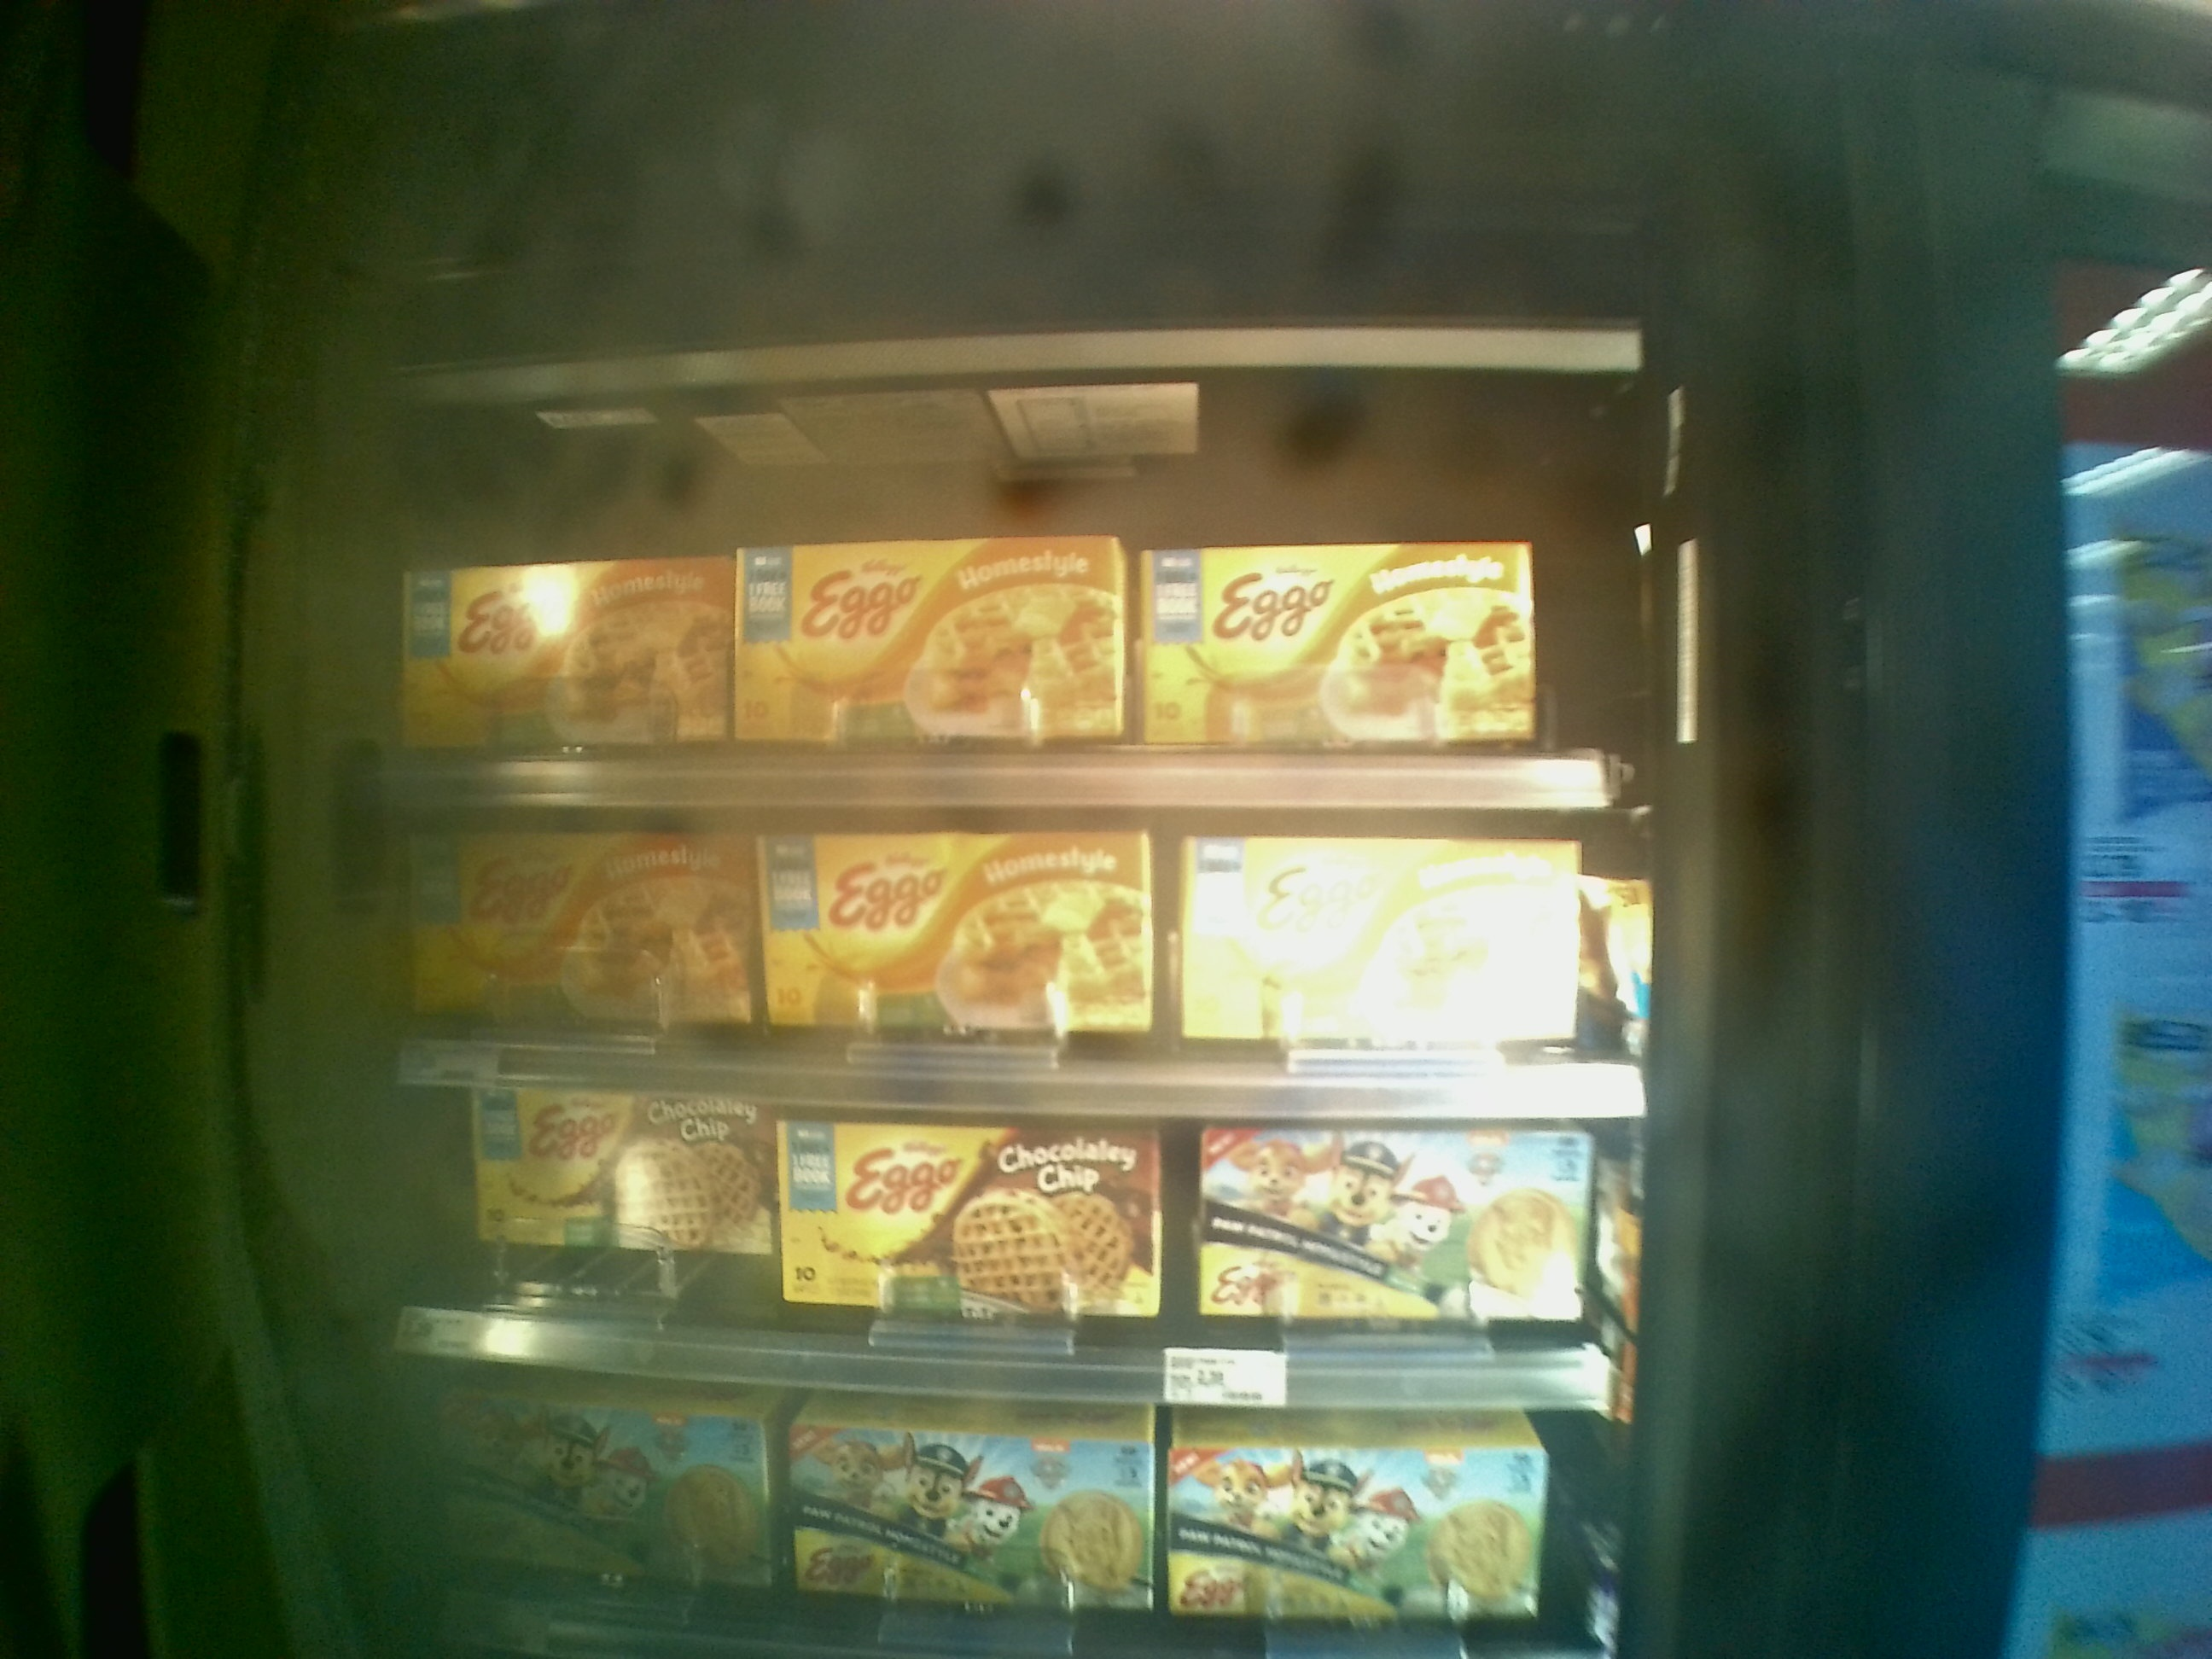shelf: (364, 319, 1639, 814)
